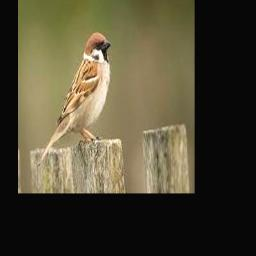Sparrow: (38, 32, 111, 167)
